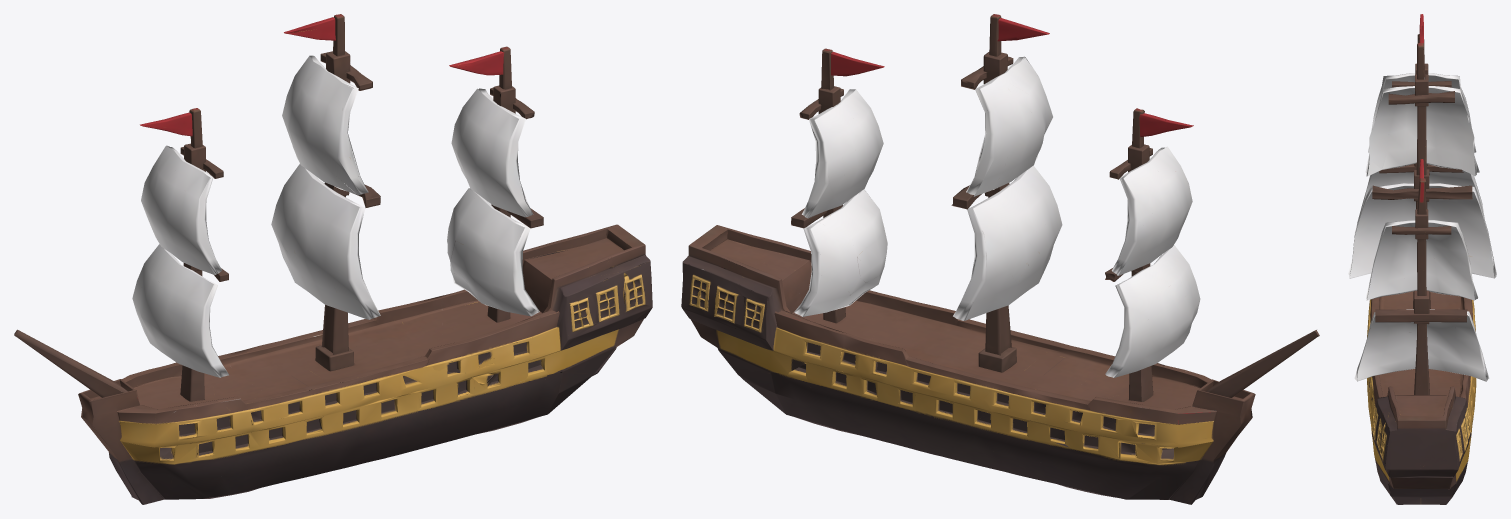
The model's file is ship-of-the-line.glb.
3 renders of one model, left to right at view 1: azimuth 30°, elevation 25°; view 2: azimuth 150°, elevation 25°; view 3: azimuth 270°, elevation 25°, orthographic. The views are drawn at different scales.
Parts seen in each view (by area): view 1: geometry_0; view 2: geometry_0; view 3: geometry_0.
Boxes of the visible parts, x1,y1,x2,y2 form: geometry_0: [14, 14, 652, 504]; geometry_0: [681, 14, 1319, 504]; geometry_0: [1348, 14, 1496, 504].
Size of the model in its own units: 0.9575 by 0.6475 by 0.2305.
Materials: 1 (1 with a texture image).
